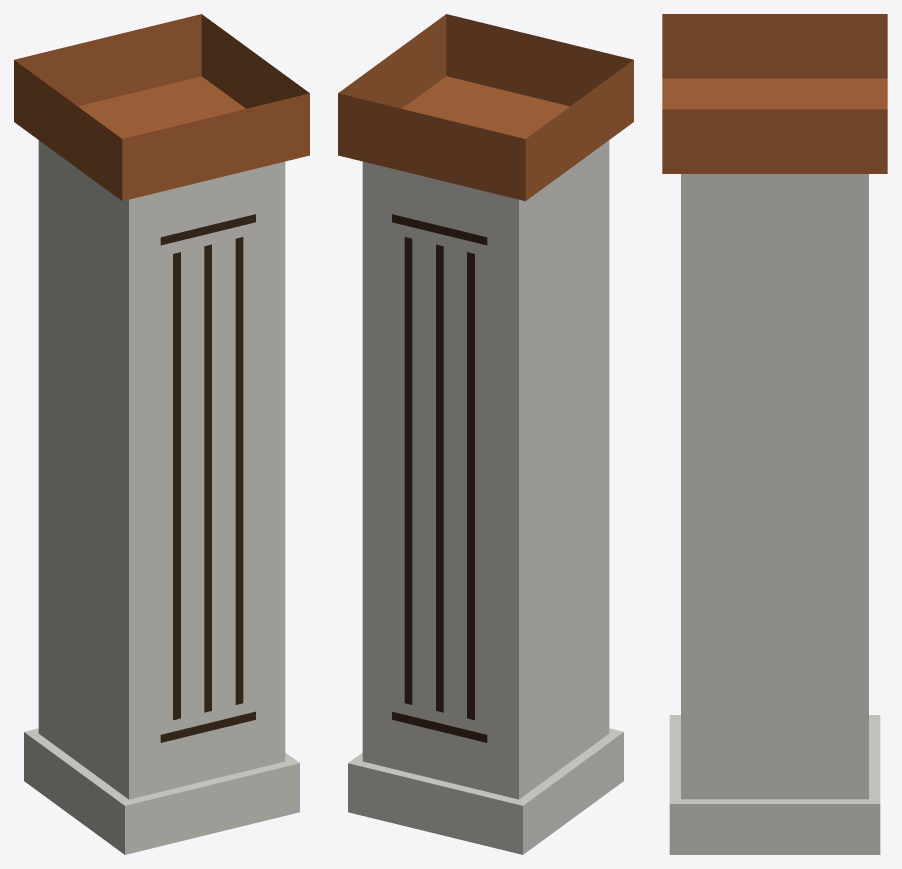
The model's file is inlaid_pier.glb.
3 renders of one model, left to right at view 1: azimuth 30°, elevation 25°; view 2: azimuth 150°, elevation 25°; view 3: azimuth 270°, elevation 25°, orthographic. The views are drawn at different scales.
Visible parts, largest first — view 1: inlaid_pier; view 2: inlaid_pier; view 3: inlaid_pier.
Boxes of the visible parts, box(x1,y1,x2,y2) form: inlaid_pier: box(14, 14, 309, 854); inlaid_pier: box(338, 14, 633, 854); inlaid_pier: box(662, 14, 887, 854).
Size of the model in its own units: 1.2 by 4.4 by 1.2.
